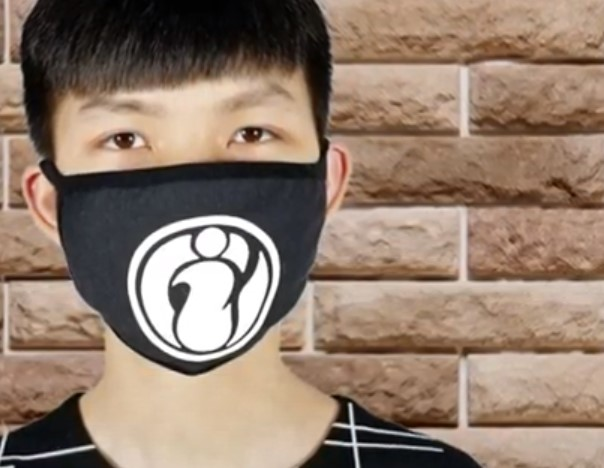face_with_mask: (18, 3, 356, 378)
